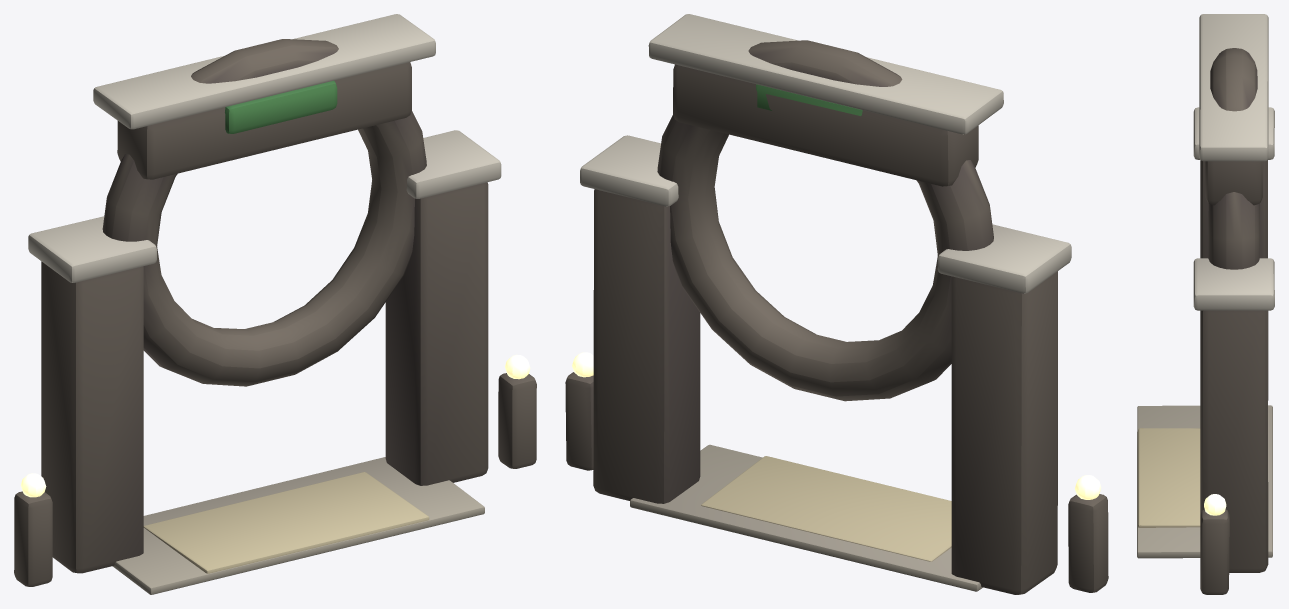
The picture shows the model from 3 angles, left to right: view 1: azimuth 30°, elevation 25°; view 2: azimuth 150°, elevation 25°; view 3: azimuth 270°, elevation 25°; orthographic projection. The views are drawn at different scales.
Visible parts, largest first — view 1: gate_ecfba476; view 2: gate_ecfba476; view 3: gate_ecfba476.
Boxes of the visible parts, x1,y1,x2,y2 form: gate_ecfba476: [14, 14, 536, 594]; gate_ecfba476: [565, 14, 1108, 594]; gate_ecfba476: [1137, 14, 1274, 594].
Size of the model in its own units: 5.5 by 4.82 by 1.43.
